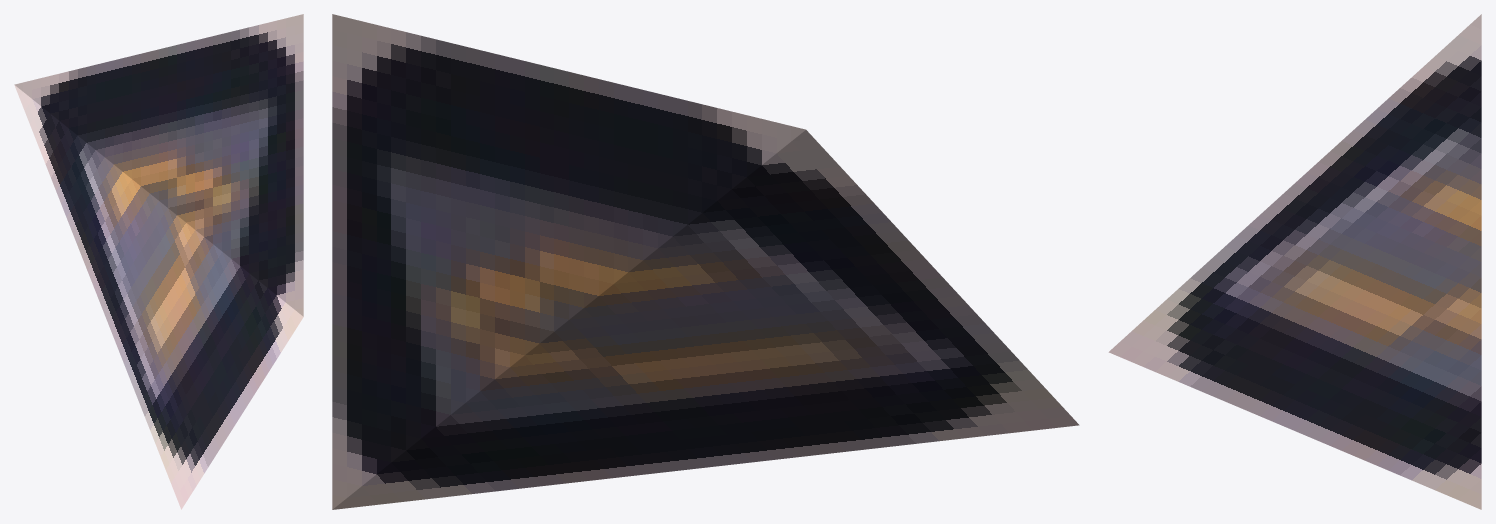
Rendered from textured-jpeg.glb.
3 views of the same model, side by side, from view 1: azimuth 30°, elevation 25°; view 2: azimuth 150°, elevation 25°; view 3: azimuth 270°, elevation 25° (orthographic). The views are drawn at different scales.
Bounding box in the file's own units: 2 × 2 × 2.
Materials: 1 (1 with a texture image).
